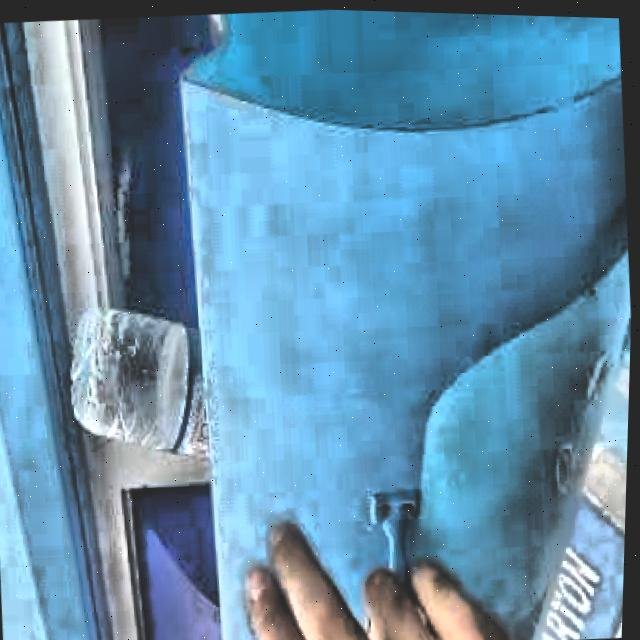plastic: (72, 307, 211, 456)
